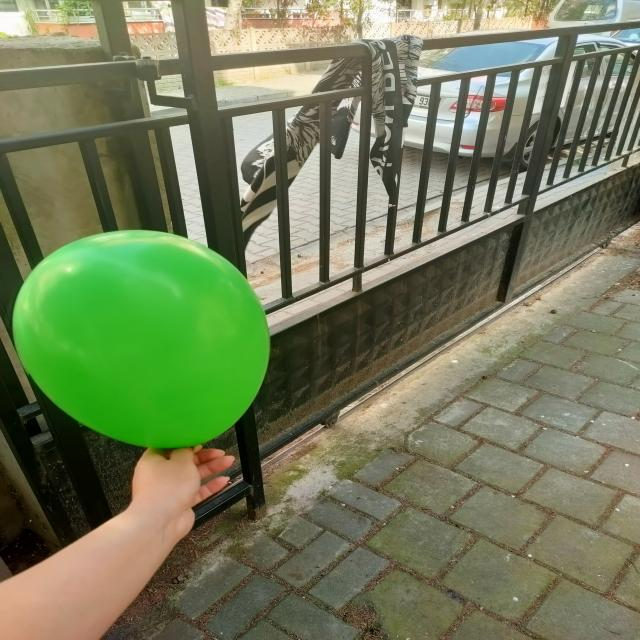green: (16, 231, 270, 449)
